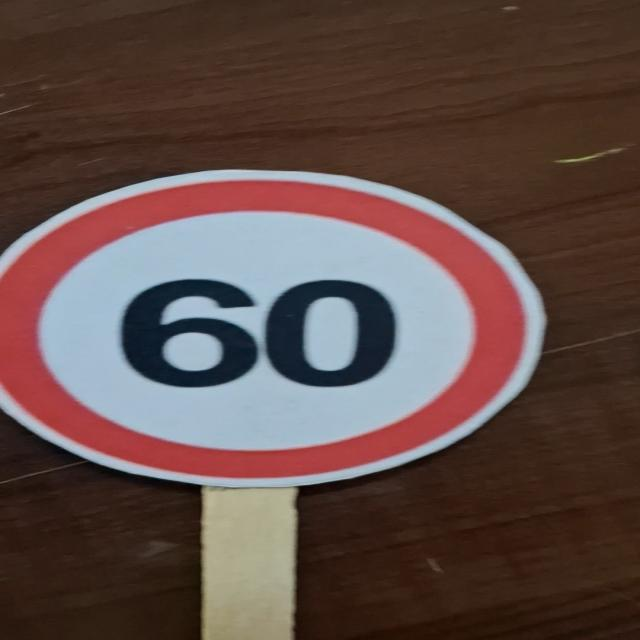Speed60: (0, 160, 554, 485)
